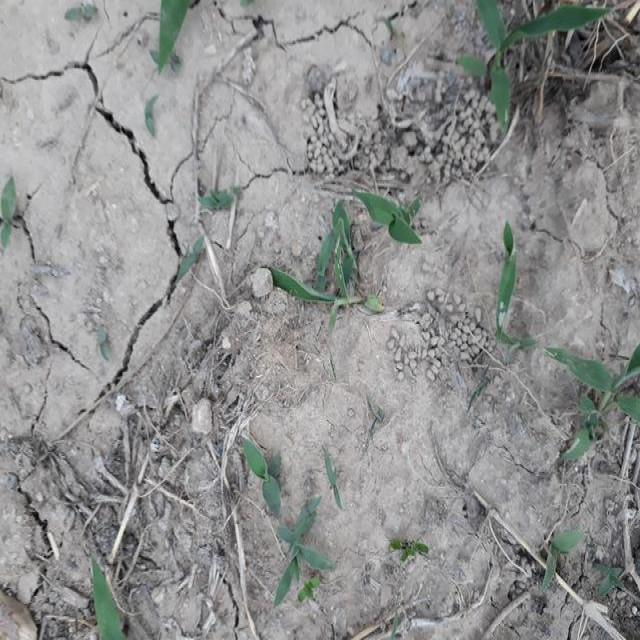crop: (438, 0, 608, 140)
